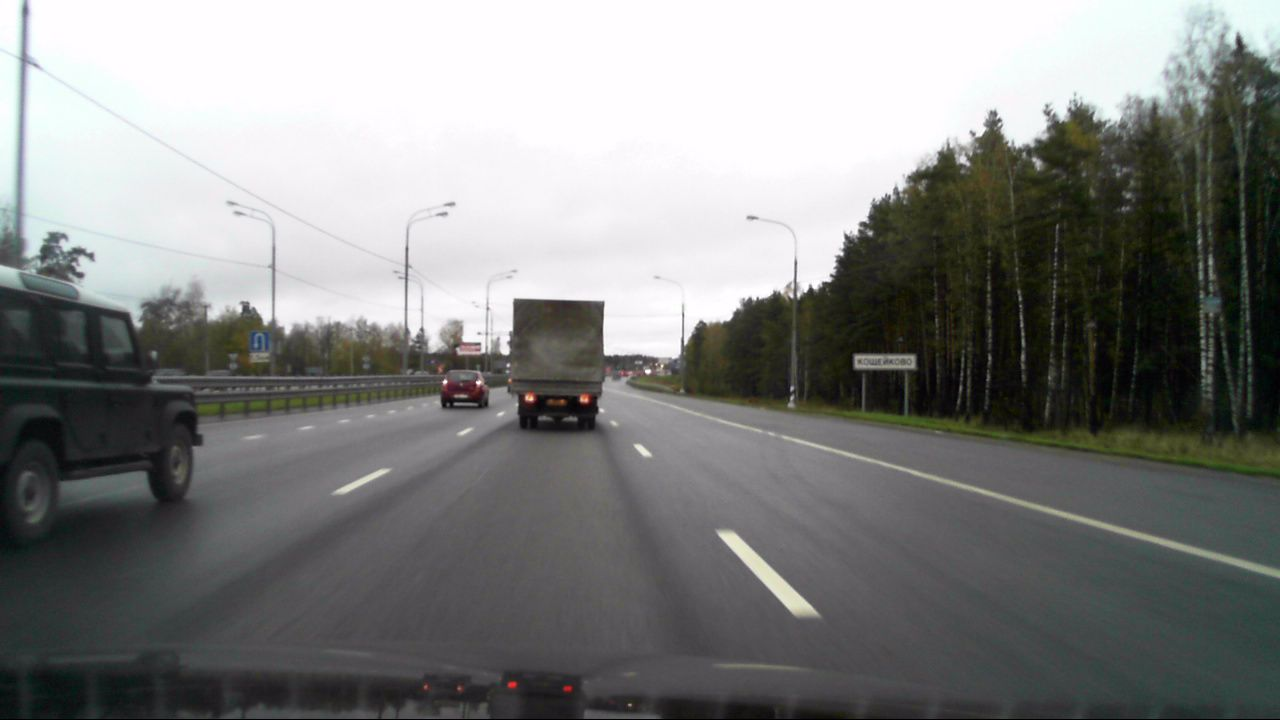U-turn: (249, 331, 269, 352)
